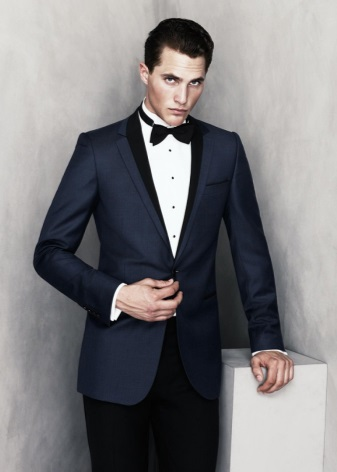bow: (149, 119, 195, 151)
